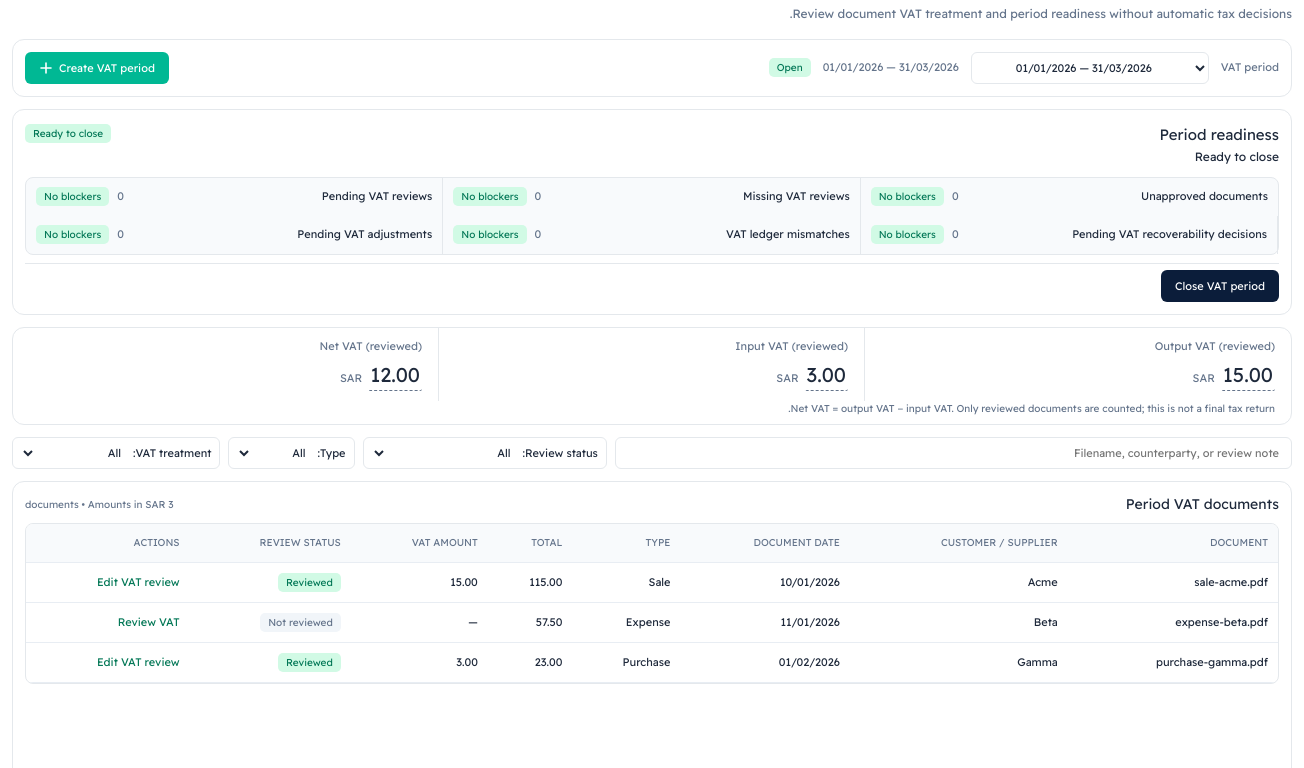
Test: VAT summary drill-down › filters the register to the reviewed documents behind each figure and resets
Expected: the cell "sale-acme.pdf" is shown, [1068, 562, 1278, 602]
What coordinates should you click on to do the following:
click the button named "Output VAT"
I would click on:
 (1248, 375)
Its box is [1221, 359, 1275, 391].
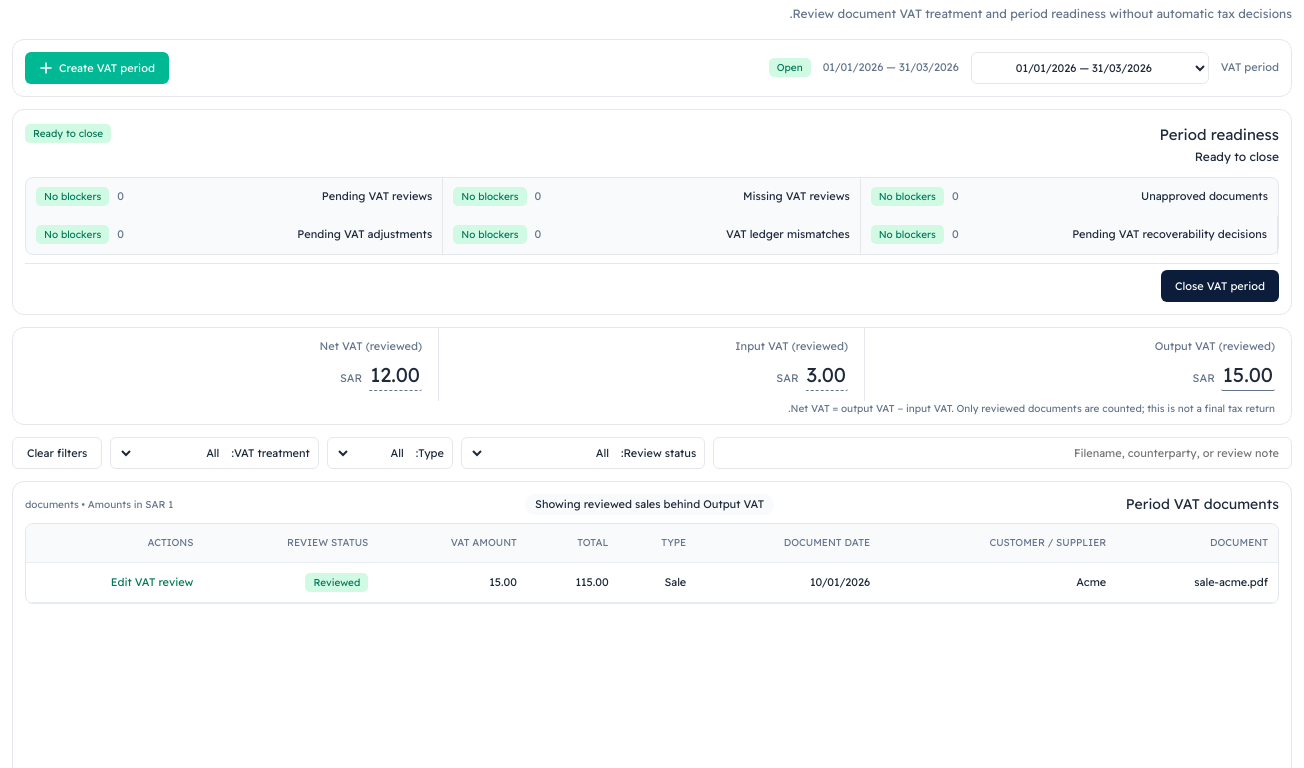
Expected: the cell "sale-acme.pdf" is shown, [1116, 562, 1278, 602]
Now the cell "purchase-gamma.pdf" is gone
Now the message shows "Output VAT", box [535, 497, 764, 511]
What coordinates should you click on to do the following:
click the button named "Input VAT"
I would click on:
 (826, 375)
Its box is [805, 359, 848, 391].
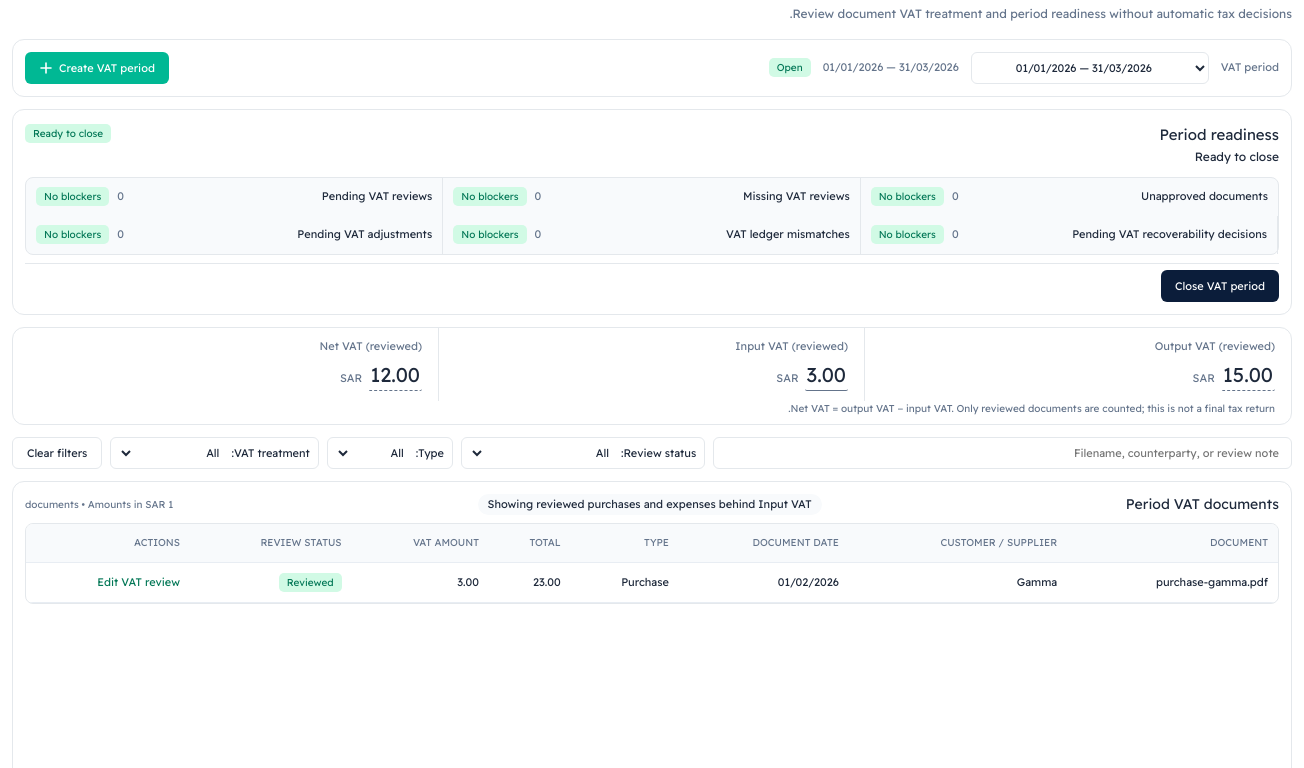
Expected: the cell "expense-beta.pdf" is not shown
Now the cell "purchase-gamma.pdf" is shown, box [1067, 562, 1278, 602]
Now the cell "sale-acme.pdf" is gone
What coordinates should you click on to do the following:
click the button named "Net VAT"
I would click on:
 (395, 375)
Its box is [368, 359, 422, 391].
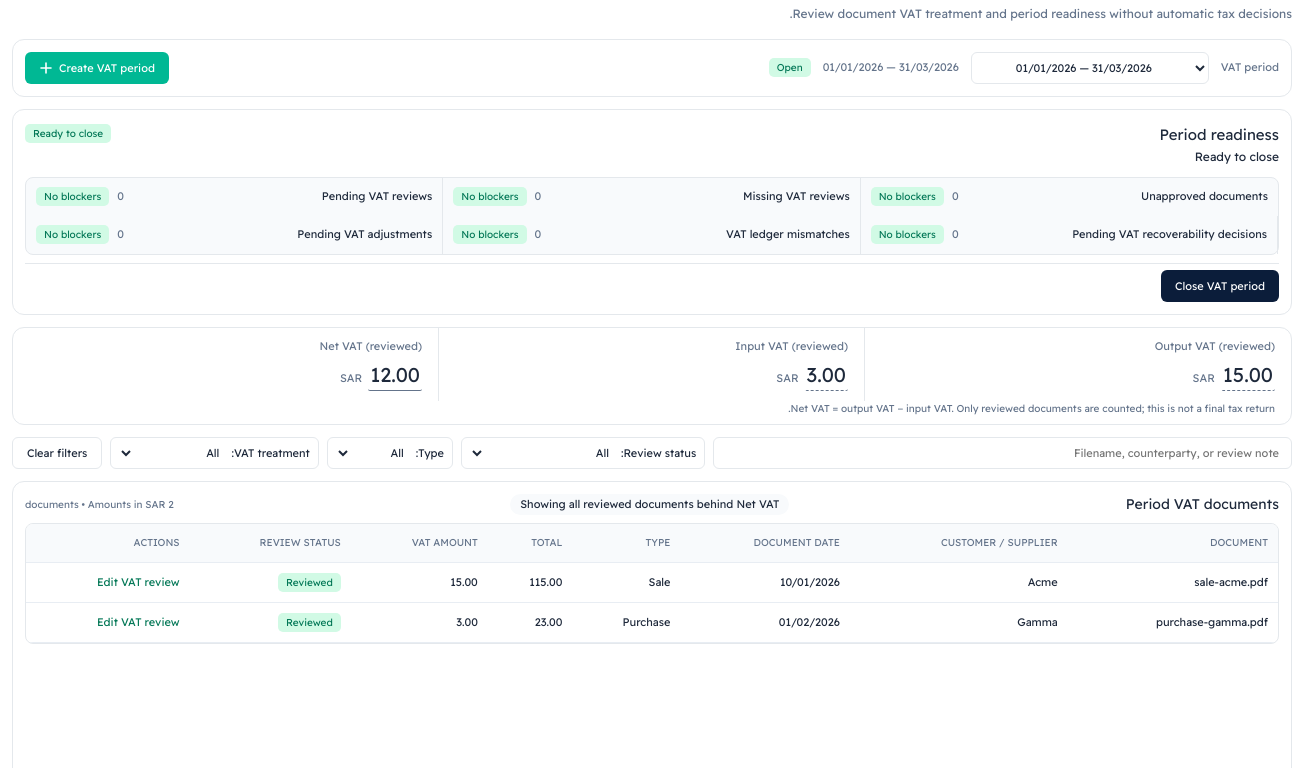
Now the cell "purchase-gamma.pdf" is shown, box [1068, 602, 1278, 642]
Now the cell "sale-acme.pdf" is shown, box [1068, 562, 1278, 602]
What coordinates should you click on to do the following:
click the button "Clear filters"
I would click on:
 (57, 453)
Its box is [12, 437, 102, 469].
(page scrolled)
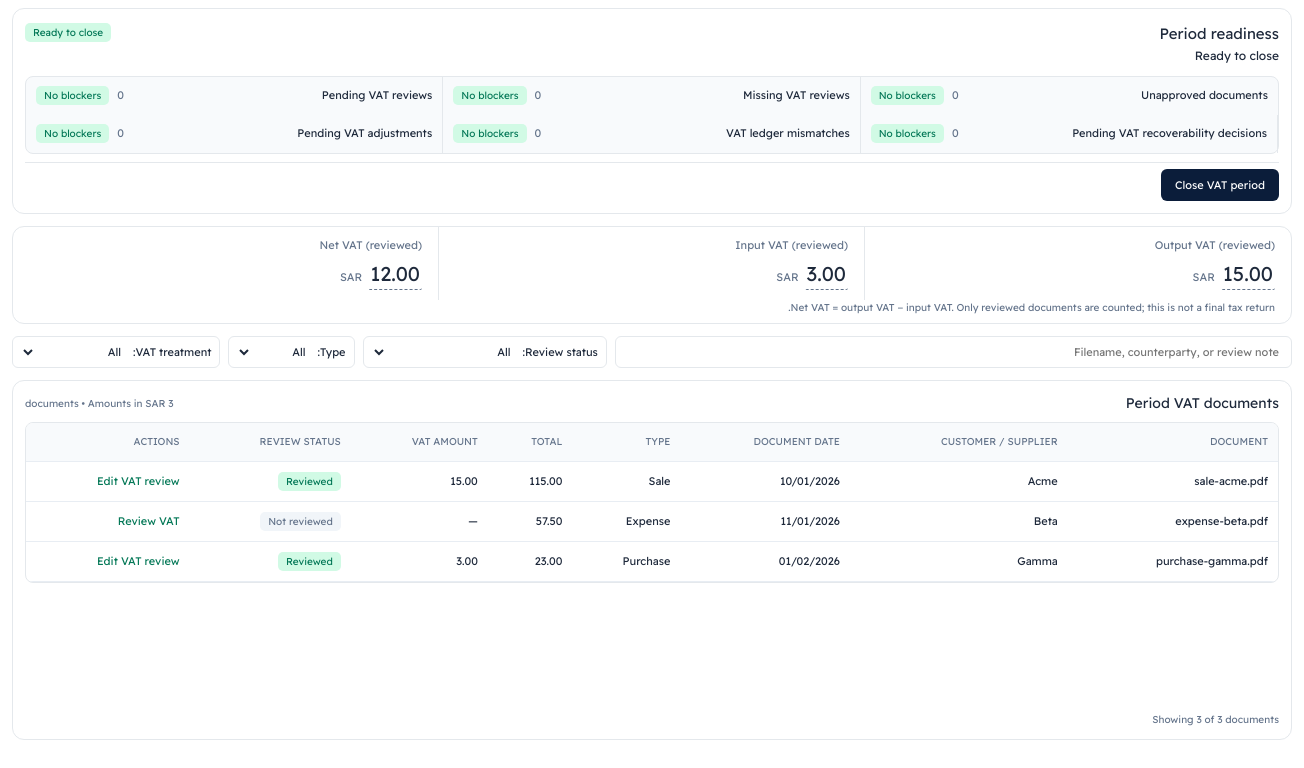
Now the cell "expense-beta.pdf" is shown, box [1068, 501, 1278, 541]
Now the message "Showing all reviewed documents behind Net VAT" is gone
